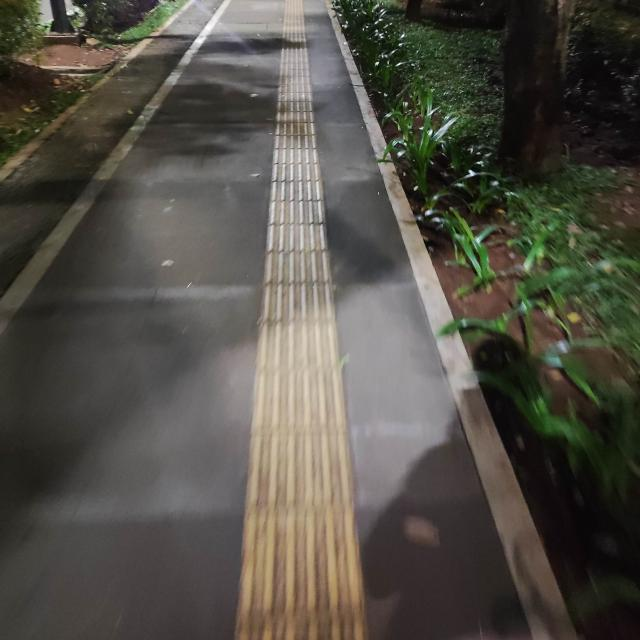lurus: (238, 59, 358, 640)
